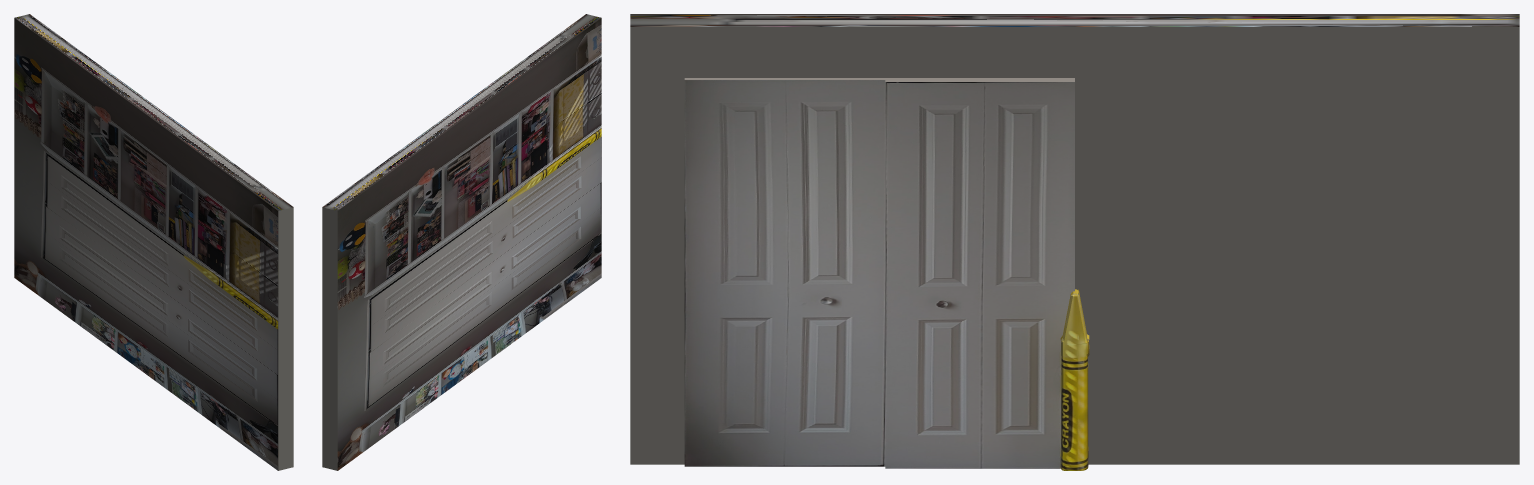
Rendered from EastWall.glb.
3 views of the same model, side by side, from view 1: azimuth 30°, elevation 25°; view 2: azimuth 150°, elevation 25°; view 3: azimuth 270°, elevation 25° (orthographic). The views are drawn at different scales.
Parts seen in each view (by area): view 1: Cube; view 2: Cube; view 3: Cube.
Boxes of the visible parts, x1,y1,x2,y2 form: Cube: (14, 14, 293, 470); Cube: (322, 14, 601, 470); Cube: (630, 14, 1519, 470).
Bounding box in the file's own units: 7.84 × 79.7 × 147.
Materials: 4 (1 with a texture image).
